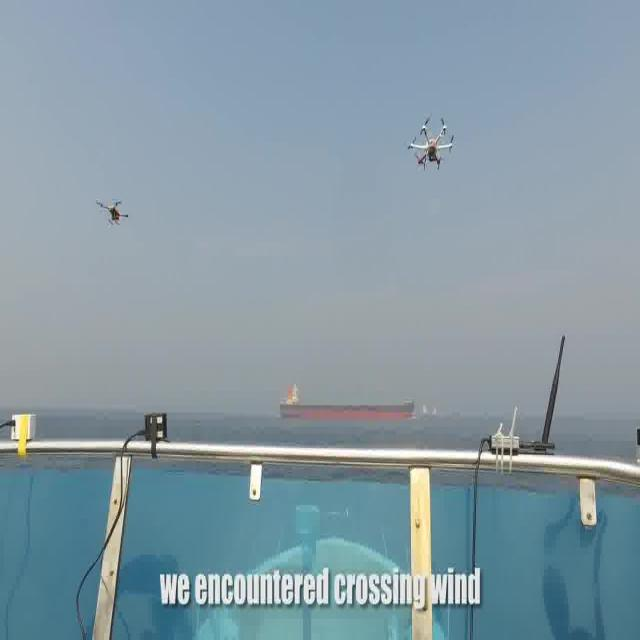Drone_FW: (400, 109, 458, 194)
